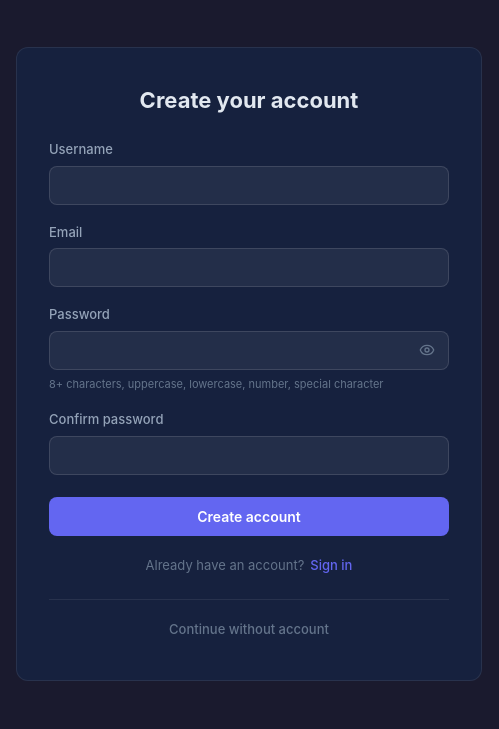
Test case: Signup › password validation: no uppercase
In the field labelled "Username": (249, 185) [49,166,449,205], type "testuser"
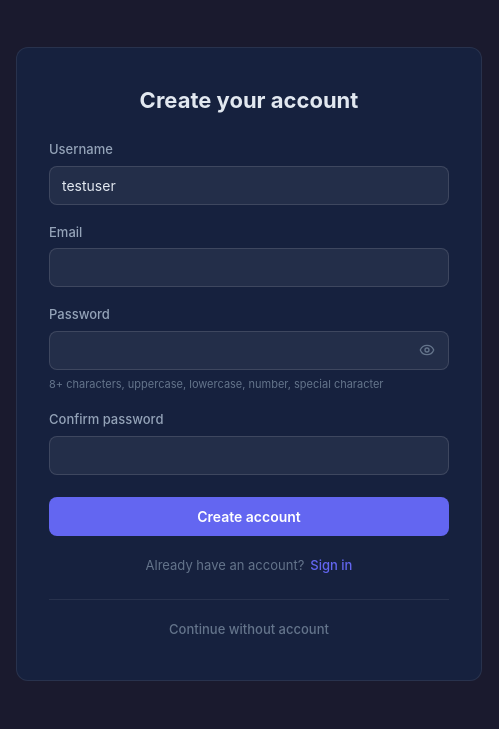
In the field labelled "Email": (249, 268) [49,248,449,287], type "test@example.com"
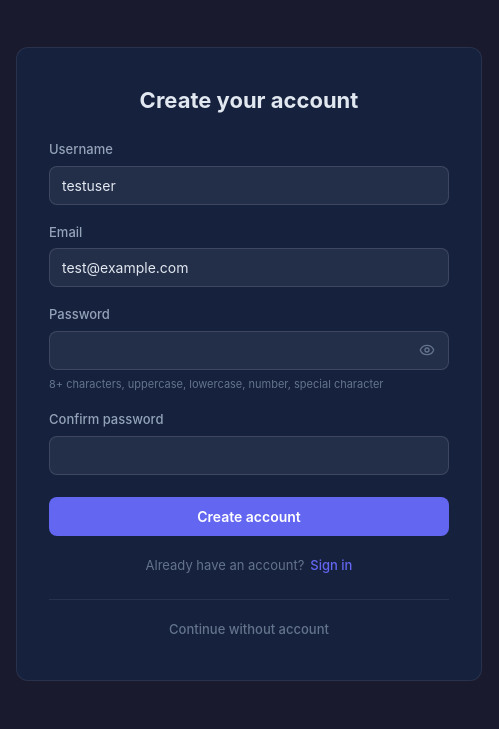
In the password field labelled "Password": (249, 350) [49,331,449,370], type "abcdefgh1!"
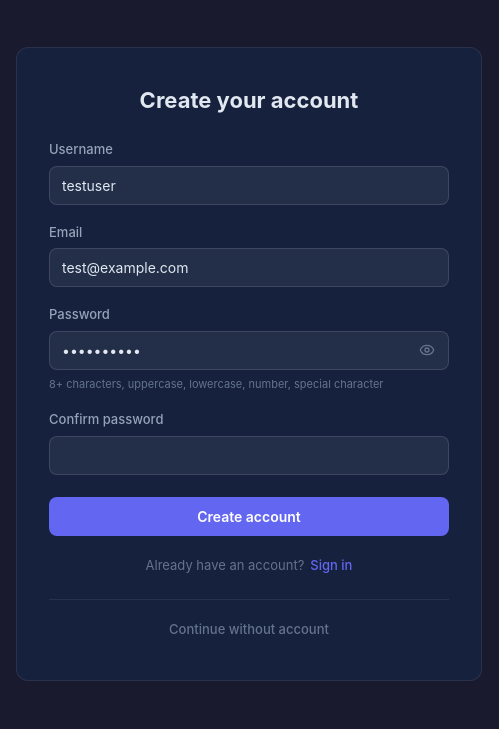
In the password field labelled "Confirm password": (249, 455) [49,436,449,475], type "abcdefgh1!"
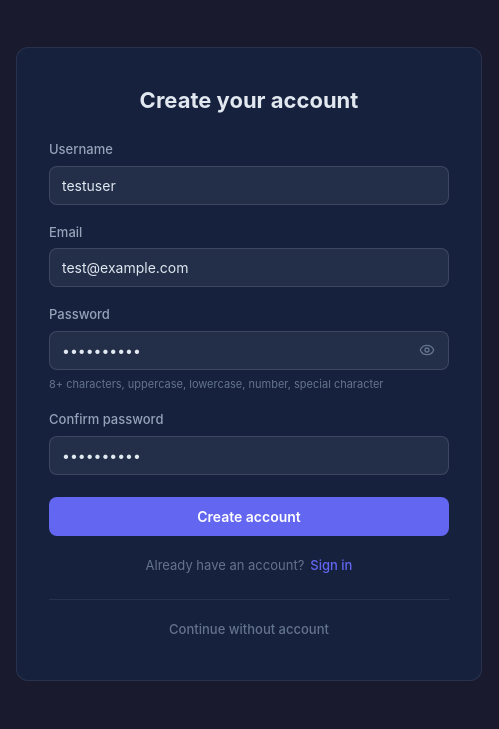
Click the button "Create account": (249, 516) [49,497,449,536]
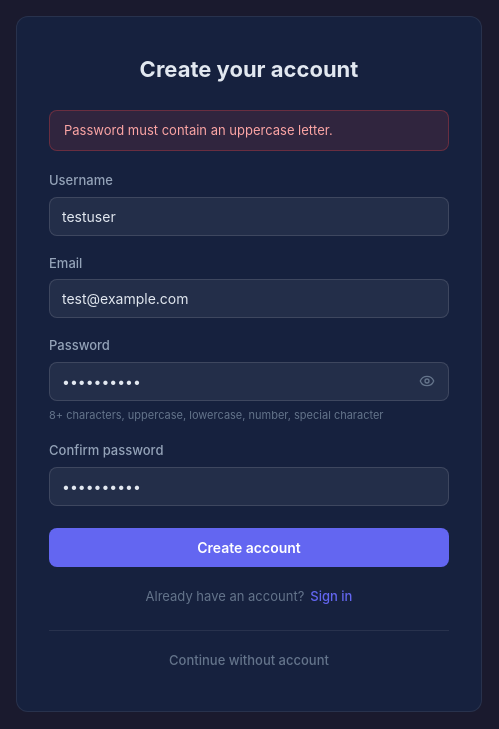
Result: the text "Password must contain an uppercase letter." is shown at [49,110,449,151]
